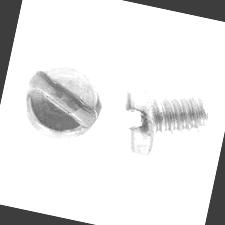screw: (16, 52, 110, 148)
